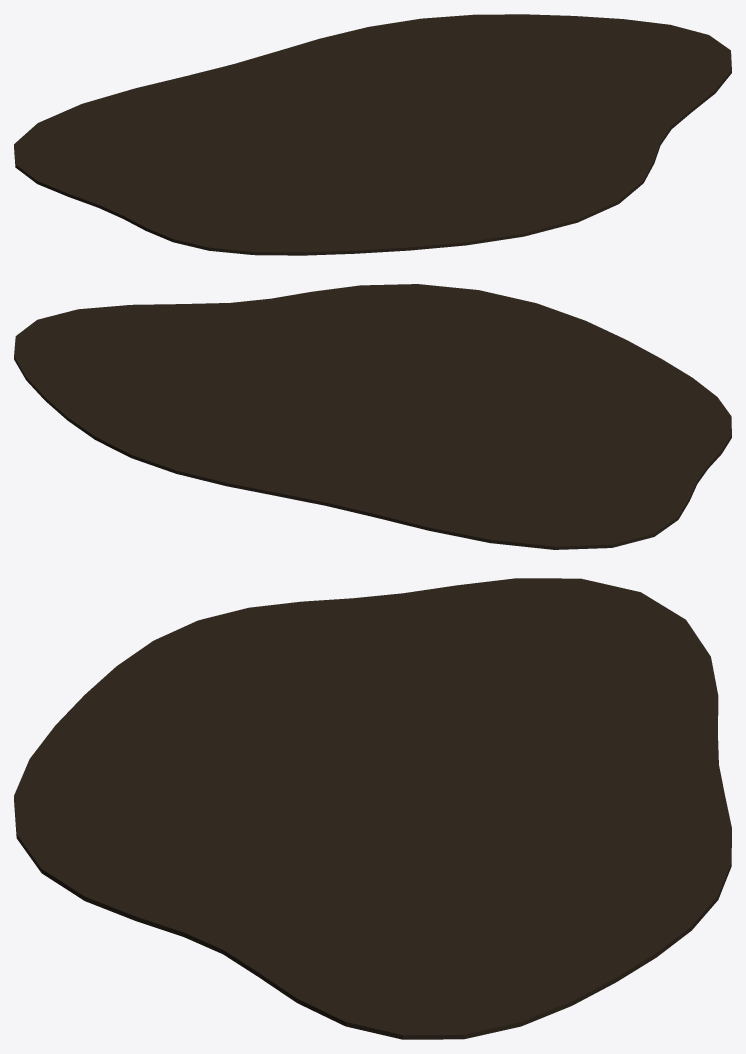
File: SM_OilSpill.glb
3 views of the same model, one above another, from view 1: azimuth 30°, elevation 25°; view 2: azimuth 150°, elevation 25°; view 3: azimuth 270°, elevation 25° (orthographic). The views are drawn at different scales.
Visible parts, largest first — view 1: SM_OilSpill; view 2: SM_OilSpill; view 3: SM_OilSpill.
Part boxes in pixels (x1,y1,x2,y2): SM_OilSpill: (14,14,731,255); SM_OilSpill: (14,284,731,549); SM_OilSpill: (14,578,731,1039).
Bounding box in the file's own units: 2.59 × 0.012 × 1.72.
